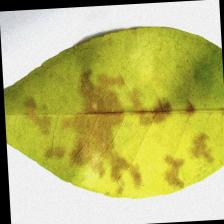black spot: (28, 80, 192, 164)
